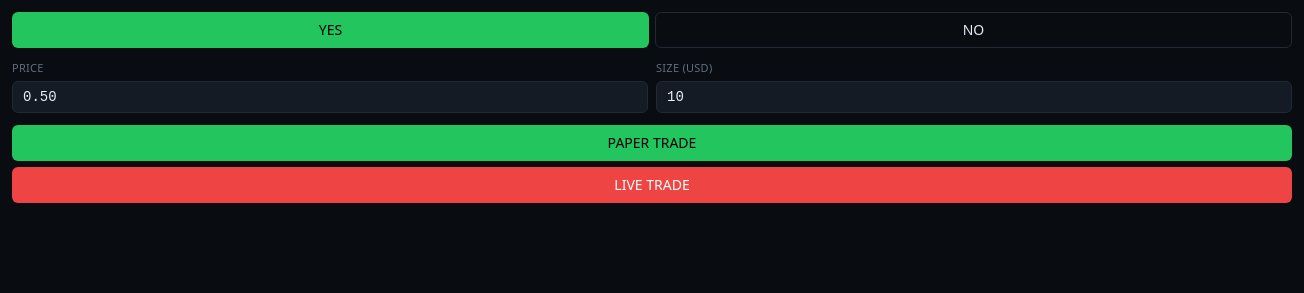
OrderTicket LIVE TRADE button › shows a declined-signature result without crashing, and lets the user retry
Click the button "LIVE TRADE".
click(652, 184)  # box [12,166,1292,202]
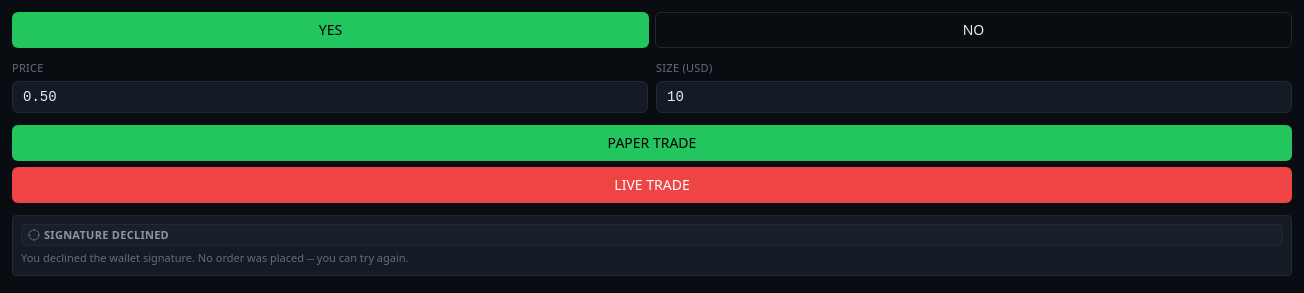
Now the text "You declined the wallet signature" is shown, box [21,250,409,265]
